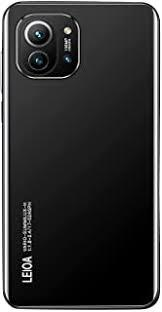Smartphone: (7, 3, 160, 309)
